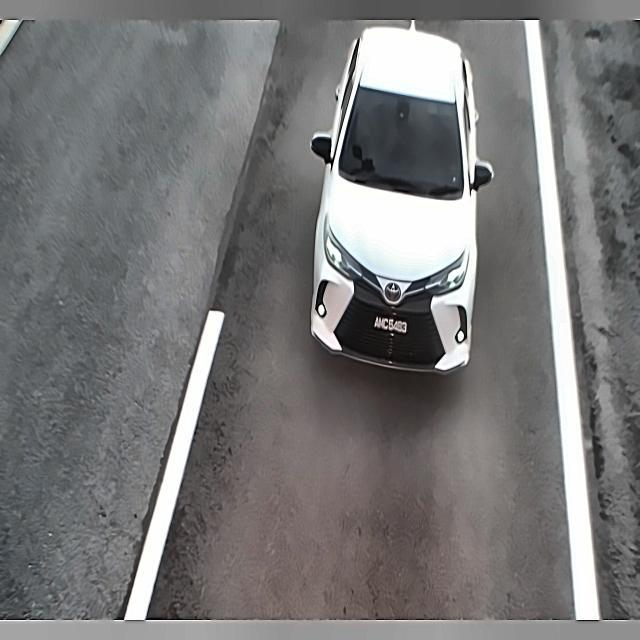car: (366, 308, 416, 338)
